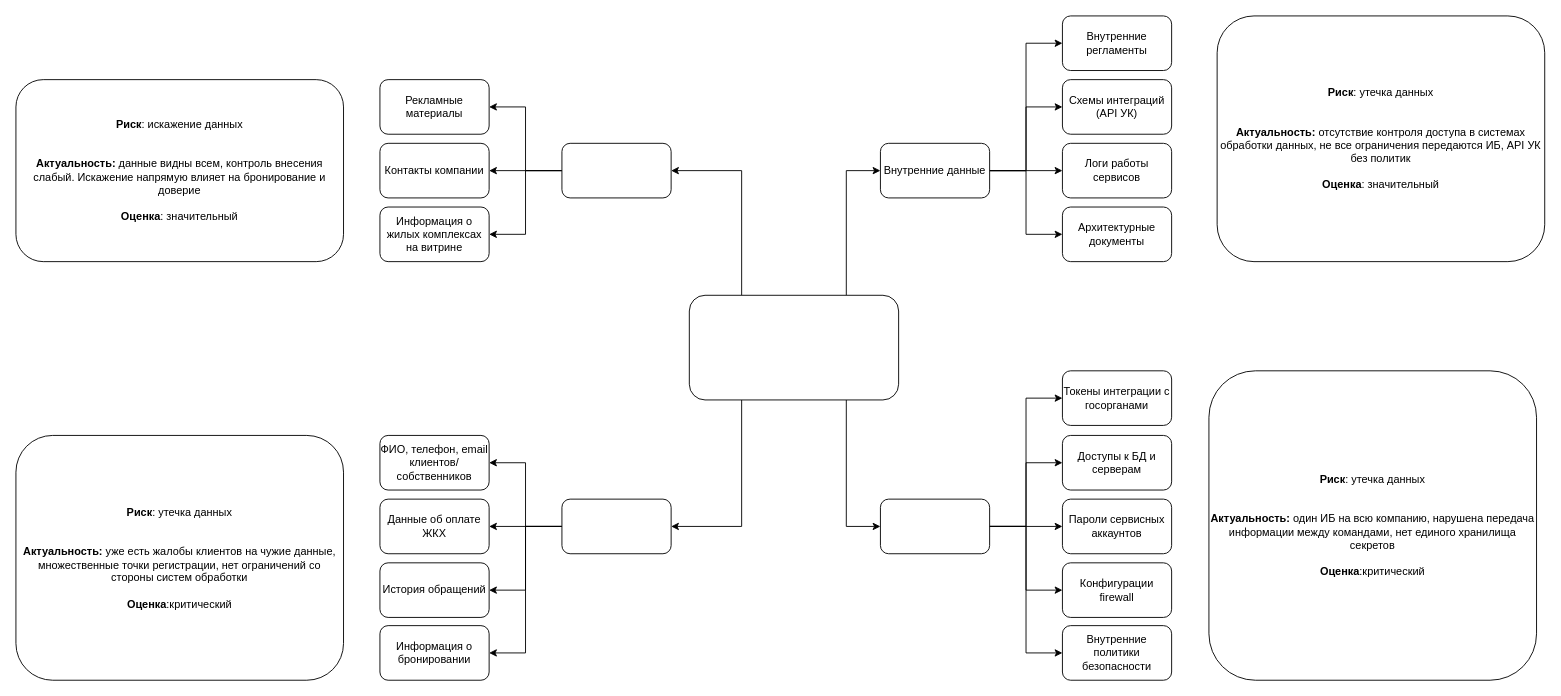
Some shapes in this 1561 by 696 pixel diagram are drawn without their labels. The shapes that lost their labels are listed below. From the top down, each one's centre as x and y in pixels, then its label:
the point at 616,170: Публичные данные
the point at 793,347: Безопасность данных
the point at 616,526: Конфиденциальные данные
the point at 935,526: Секретные данные
